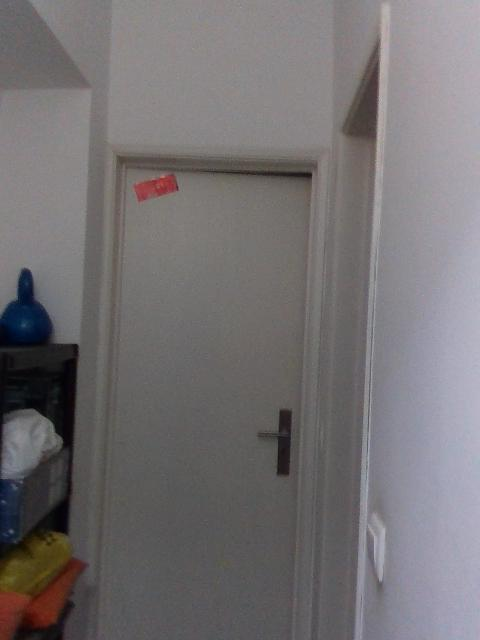door: (106, 172, 305, 640)
